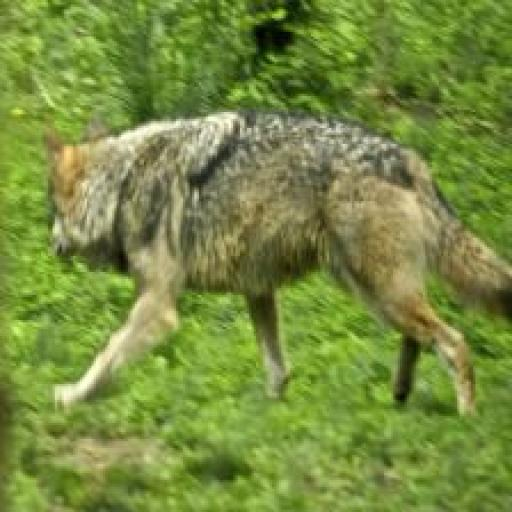wolf: (41, 107, 512, 422)
